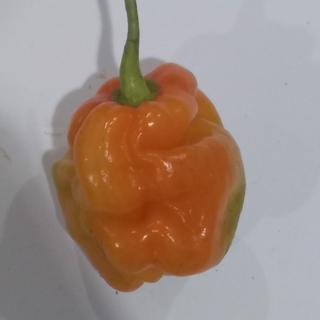Grade-A: (46, 52, 257, 292)
